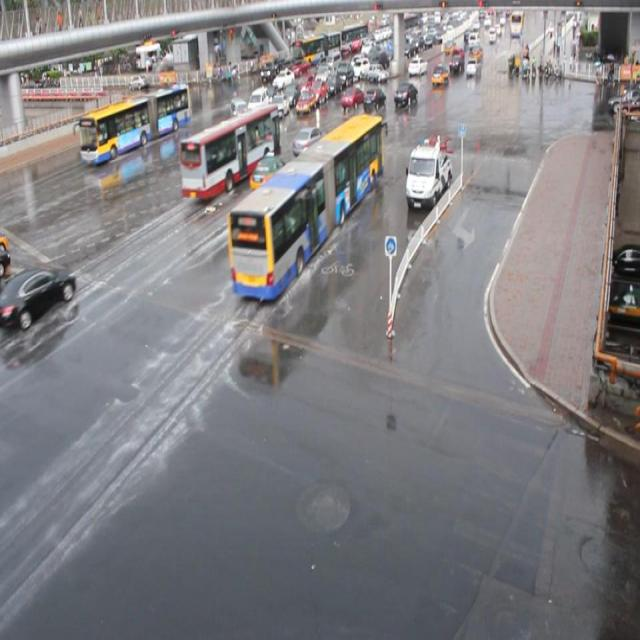bus: (403, 142, 450, 209)
car: (10, 266, 76, 328), (249, 152, 292, 190), (292, 125, 327, 156), (340, 84, 365, 110), (362, 86, 386, 112), (292, 90, 314, 116), (393, 82, 417, 105), (304, 80, 325, 106), (261, 81, 283, 105), (266, 95, 287, 118), (279, 82, 299, 106), (291, 75, 311, 96), (272, 70, 293, 88)
truck: (244, 88, 267, 120), (228, 97, 248, 132)
van: (225, 112, 384, 300), (178, 103, 280, 198), (79, 82, 190, 164)
